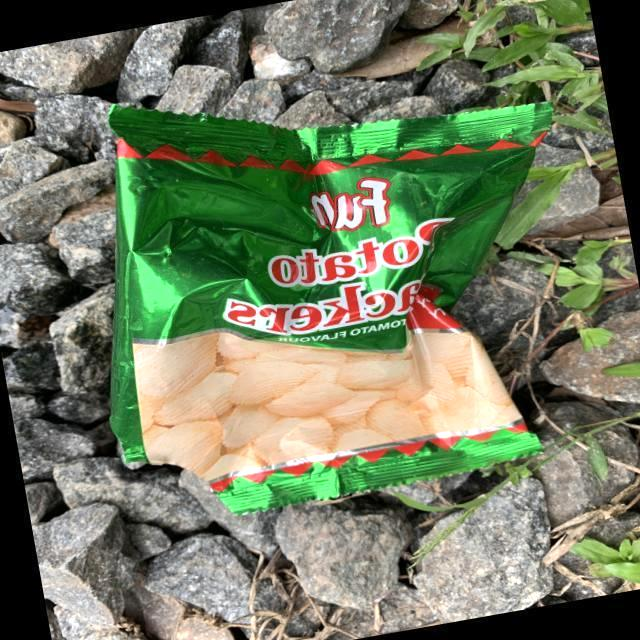packet: (27, 25, 623, 542)
